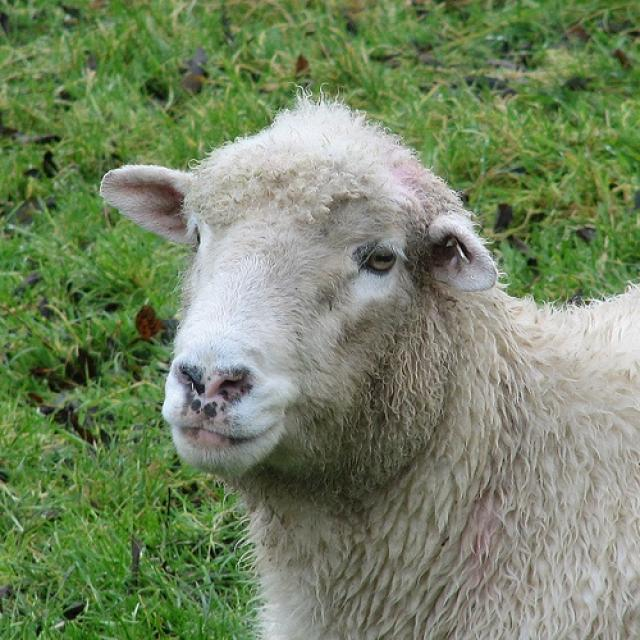sheep: (91, 91, 639, 639)
